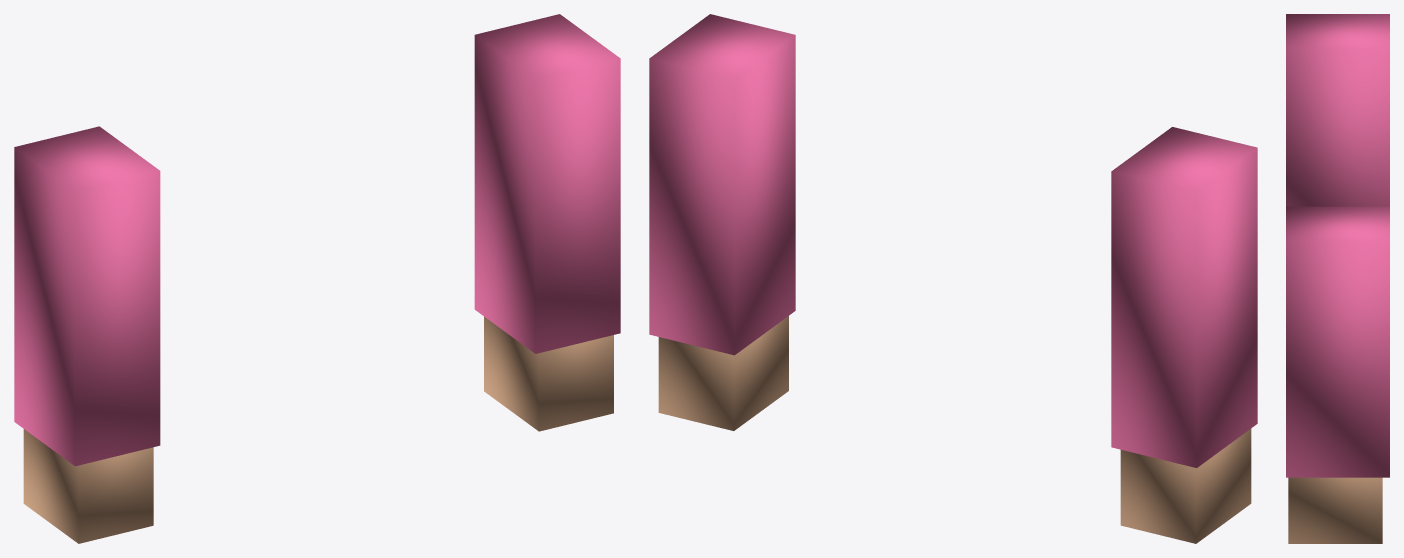
File: skomma_hand_07.glb
The picture shows the model from 3 angles, left to right: view 1: azimuth 30°, elevation 25°; view 2: azimuth 150°, elevation 25°; view 3: azimuth 270°, elevation 25°; orthographic projection. The views are drawn at different scales.
Visible parts, largest first — view 1: Left_Arm, Right_Arm, Left_Hand, Right_Hand; view 2: Right_Arm, Left_Arm, Left_Hand, Right_Hand; view 3: Right_Arm, Left_Arm, Right_Hand.
Boxes of the visible parts, x1,y1,x2,y2 form: Left_Arm: (14, 126, 160, 466); Right_Arm: (474, 14, 620, 353); Left_Hand: (23, 429, 153, 543); Right_Hand: (484, 316, 613, 431); Right_Arm: (649, 14, 795, 355); Left_Arm: (1111, 127, 1257, 467); Left_Hand: (1120, 428, 1251, 543); Right_Hand: (658, 316, 788, 430); Right_Arm: (1286, 206, 1389, 477); Left_Arm: (1286, 14, 1389, 206); Right_Hand: (1288, 477, 1382, 543).
Bounding box in the file's own units: 2.18 × 1.35 × 0.42.
